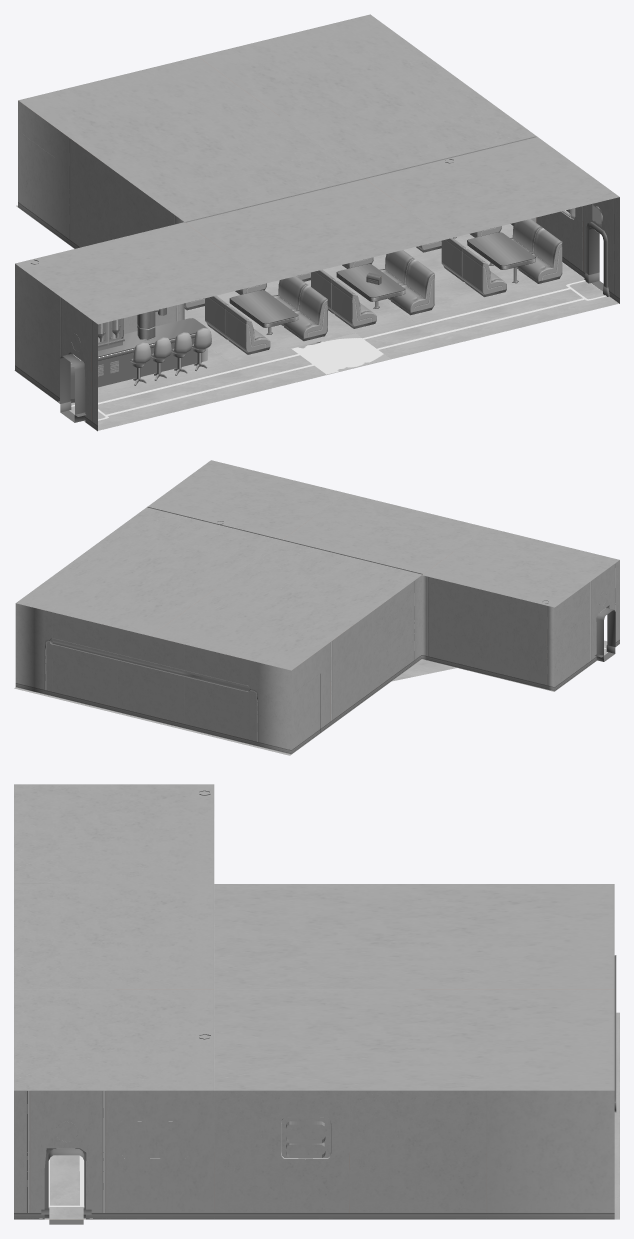
Rendered from MSH_cafeteria_l3_R3_Institute_optimized.fbx.
3 renders of one model, top to bottom at view 1: azimuth 30°, elevation 25°; view 2: azimuth 150°, elevation 25°; view 3: azimuth 270°, elevation 25°, orthographic. The views are drawn at different scales.
Parts seen in each view (by area): view 1: lightmap0, MHS_Cafeteria_L3_R3_Institute_light_03; view 2: lightmap0; view 3: lightmap0.
Boxes of the visible parts, <box> form: lightmap0: <box>14,14,619,431</box>; MHS_Cafeteria_L3_R3_Institute_light_03: <box>71,210,606,420</box>; lightmap0: <box>14,460,619,755</box>; lightmap0: <box>14,784,619,1224</box>.
Size of the model in its own units: 30.91 by 5.92 by 24.99.
Materials: 6 (6 with a texture image).
